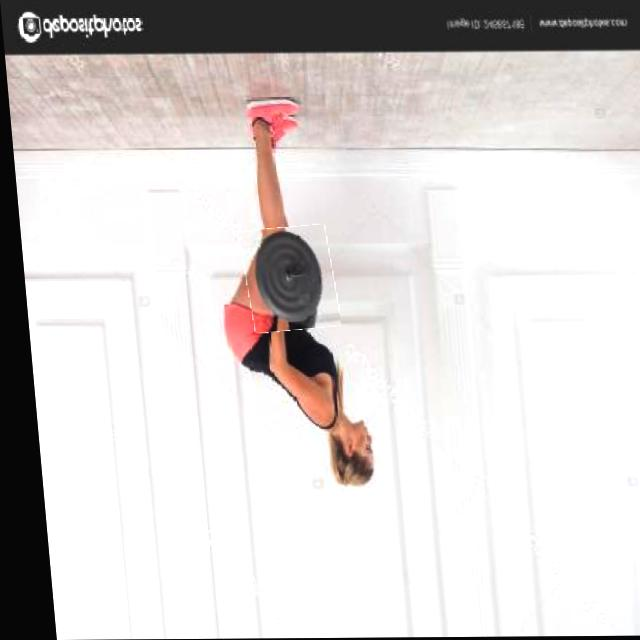barbell: (236, 227, 334, 332)
